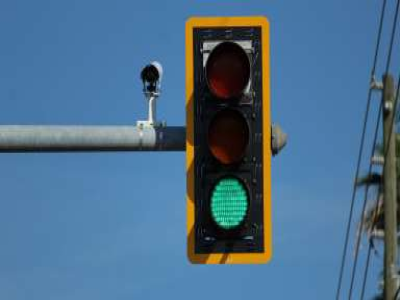trafficlight_green: (201, 34, 255, 237)
